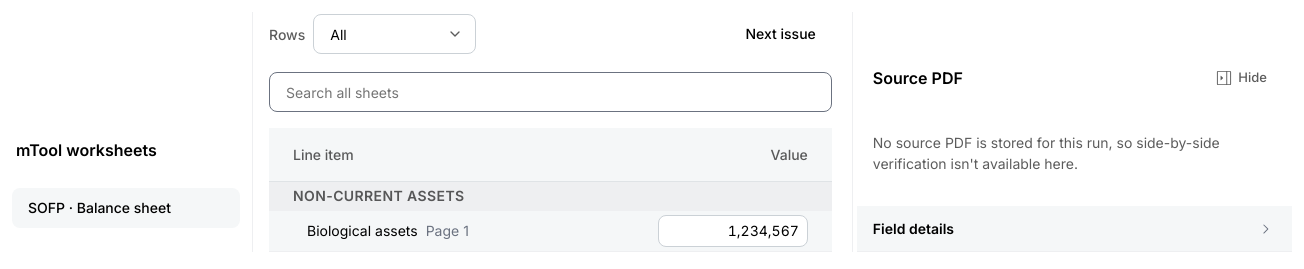
Test: ConceptsPage › editable value cell shows grouped value at rest, raw while focused
// Focus → raw digits so typing isn't fought.
Focus the field with test id "value-input-leaf-1" at [733, 231], box [658, 215, 808, 247]
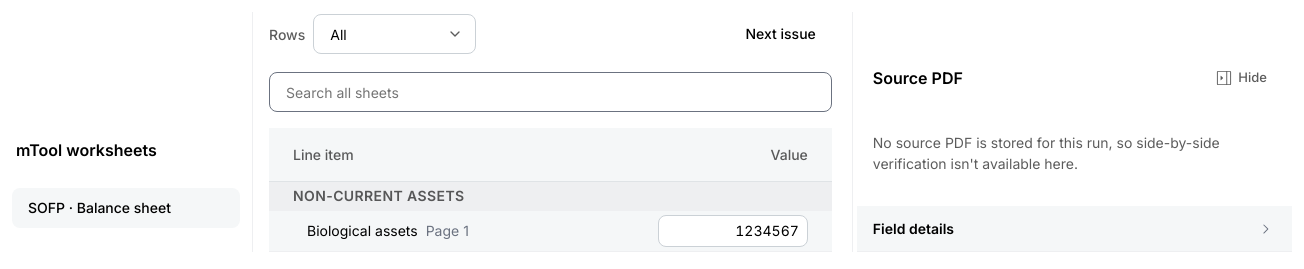
Expected: the field with test id "value-input-leaf-1" holds "1234567"
// Blur → grouped again.
Leave the field with test id "value-input-leaf-1", box [658, 215, 808, 247]
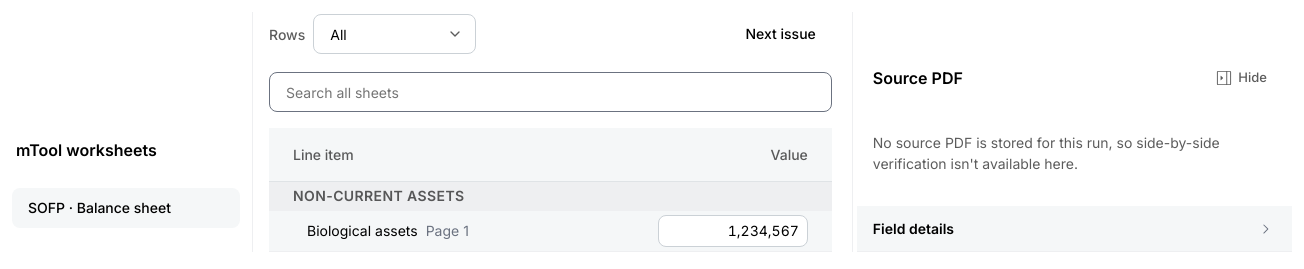
Expected: the field with test id "value-input-leaf-1" holds "1,234,567", [658, 215, 808, 247]
